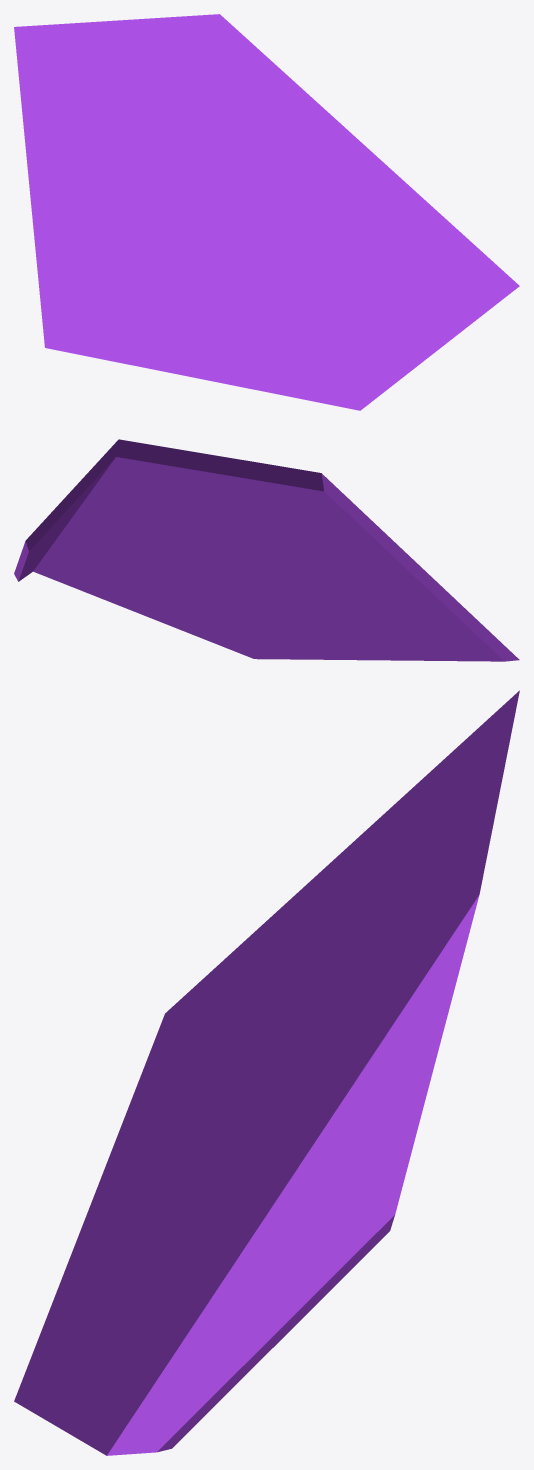
Rendered from Window_26_8_chunks.fbx.
3 views of the same model, one above another, from view 1: azimuth 30°, elevation 25°; view 2: azimuth 150°, elevation 25°; view 3: azimuth 270°, elevation 25° (orthographic). The views are drawn at different scales.
Parts seen in each view (by area): view 1: Window_26_8_11, Window_26_8_2, Window_26_8_10, Window_26_8_15, Window_26_8_9, Window_26_8_6, Window_26_8_0, Window_26_8_8, Window_26_8_7, Window_26_8_17, Window_26_8_14, Window_26_8_18 (+6 smaller); view 2: Window_26_8_10, Window_26_8_11, Window_26_8_15, Window_26_8_9, Window_26_8_0, Window_26_8_2, Window_26_8_1, Window_26_8_8, Window_26_8_7, Window_26_8_12, Window_26_8_5, Window_26_8_4 (+6 smaller); view 3: Window_26_8_7, Window_26_8_5, Window_26_8_9, Window_26_8_11, Window_26_8_2, Window_26_8_10, Window_26_8_15, Window_26_8_6, Window_26_8_0, Window_26_8_8, Window_26_8_17, Window_26_8_14 (+6 smaller).
Boxes of the visible parts, box(x1,y1,x2,y2) form: Window_26_8_11: box(33, 222, 159, 364); Window_26_8_2: box(225, 294, 389, 410); Window_26_8_10: box(14, 16, 187, 99); Window_26_8_15: box(21, 104, 148, 229); Window_26_8_9: box(177, 14, 300, 135); Window_26_8_6: box(370, 195, 480, 322); Window_26_8_0: box(334, 256, 472, 387); Window_26_8_8: box(196, 122, 294, 213); Window_26_8_7: box(290, 88, 418, 205); Window_26_8_17: box(127, 103, 207, 217); Window_26_8_14: box(103, 214, 231, 294); Window_26_8_18: box(19, 85, 190, 150); Window_26_8_10: box(160, 446, 357, 521); Window_26_8_11: box(365, 588, 519, 661); Window_26_8_15: box(301, 518, 446, 601); Window_26_8_9: box(58, 439, 204, 515); Window_26_8_0: box(84, 565, 231, 649); Window_26_8_2: box(204, 601, 360, 660); Window_26_8_1: box(183, 555, 297, 620); Window_26_8_8: box(122, 507, 290, 573); Window_26_8_7: box(22, 487, 152, 559); Window_26_8_12: box(297, 604, 383, 660); Window_26_8_5: box(14, 532, 95, 591); Window_26_8_4: box(100, 529, 187, 577); Window_26_8_7: box(231, 1046, 424, 1290); Window_26_8_5: box(84, 1270, 329, 1455); Window_26_8_9: box(328, 853, 487, 1102); Window_26_8_11: box(125, 894, 296, 1115); Window_26_8_2: box(14, 1196, 148, 1411); Window_26_8_10: box(396, 690, 519, 937); Window_26_8_15: box(278, 769, 433, 1004); Window_26_8_6: box(79, 1227, 232, 1442); Window_26_8_0: box(31, 1234, 187, 1439); Window_26_8_8: box(256, 980, 365, 1136); Window_26_8_17: box(270, 921, 390, 1049); Window_26_8_14: box(186, 961, 284, 1149).
Bounding box in the file's own units: 1269 × 855 × 716.
